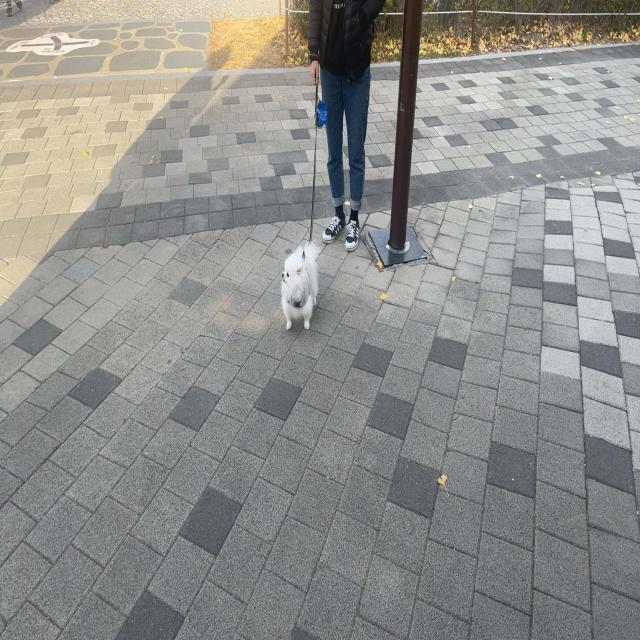Leashed_Dog: (280, 61, 342, 330)
